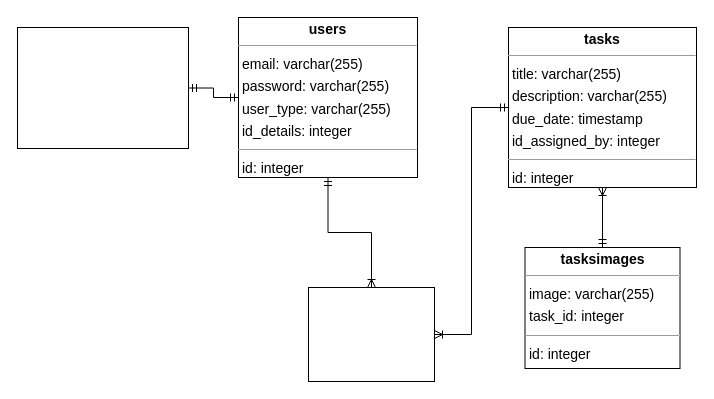
Some shapes in this 714 by 399 pixel diagram are drawn without their labels. Here are the shapes that lost their labels. From the top down, the box of each, then its label:
(16, 26, 188, 148): usersdetails name: varchar(255) surname: varchar(255) id: integer
(308, 286, 434, 382): userstasks id_user: integer id_task: integer
